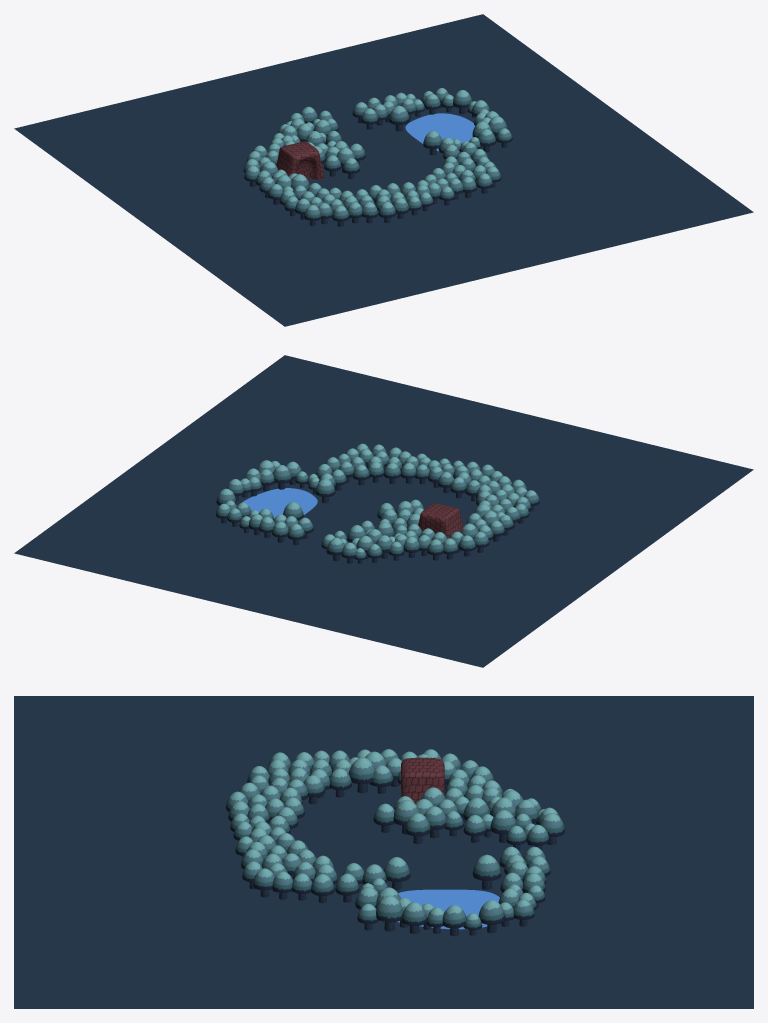
File: Watering Hole Area.glb
3 renders of one model, top to bottom at view 1: azimuth 30°, elevation 25°; view 2: azimuth 150°, elevation 25°; view 3: azimuth 270°, elevation 25°, orthographic. The views are drawn at different scales.
Parts seen in each view (by area): view 1: Ground, Water Placeholder, Cave Entrance Placeholder; view 2: Ground, Water Placeholder, Cave Entrance Placeholder; view 3: Ground, Water Placeholder, Cave Entrance Placeholder, Placeholder Tree.1086, Placeholder Tree.1100, Placeholder Tree.1038, Placeholder Tree.1093, Placeholder Tree.1131, Placeholder Tree.1084, Placeholder Tree.1130, Placeholder Tree.1124, Placeholder Tree.1088.
Boxes of the visible parts, left/top/right/bottom form: Ground: left=14, top=14, right=753, bottom=326; Water Placeholder: left=405, top=113, right=474, bottom=152; Cave Entrance Placeholder: left=276, top=141, right=324, bottom=179; Ground: left=14, top=355, right=753, bottom=667; Water Placeholder: left=242, top=488, right=317, bottom=518; Cave Entrance Placeholder: left=418, top=503, right=463, bottom=538; Ground: left=14, top=696, right=753, bottom=1008; Water Placeholder: left=397, top=889, right=499, bottom=929; Cave Entrance Placeholder: left=401, top=757, right=444, bottom=803; Placeholder Tree.1086: left=376, top=895, right=403, bottom=931; Placeholder Tree.1100: left=472, top=854, right=501, bottom=889; Placeholder Tree.1038: left=348, top=757, right=374, bottom=793; Placeholder Tree.1093: left=478, top=900, right=505, bottom=933; Placeholder Tree.1131: left=383, top=857, right=410, bottom=890; Placeholder Tree.1084: left=401, top=902, right=427, bottom=933; Placeholder Tree.1130: left=405, top=813, right=430, bottom=844; Placeholder Tree.1124: left=490, top=810, right=516, bottom=843; Placeholder Tree.1088: left=442, top=905, right=466, bottom=936.
Size of the model in its own units: 100 by 6.2 by 100.
5 materials, 3 textured.
